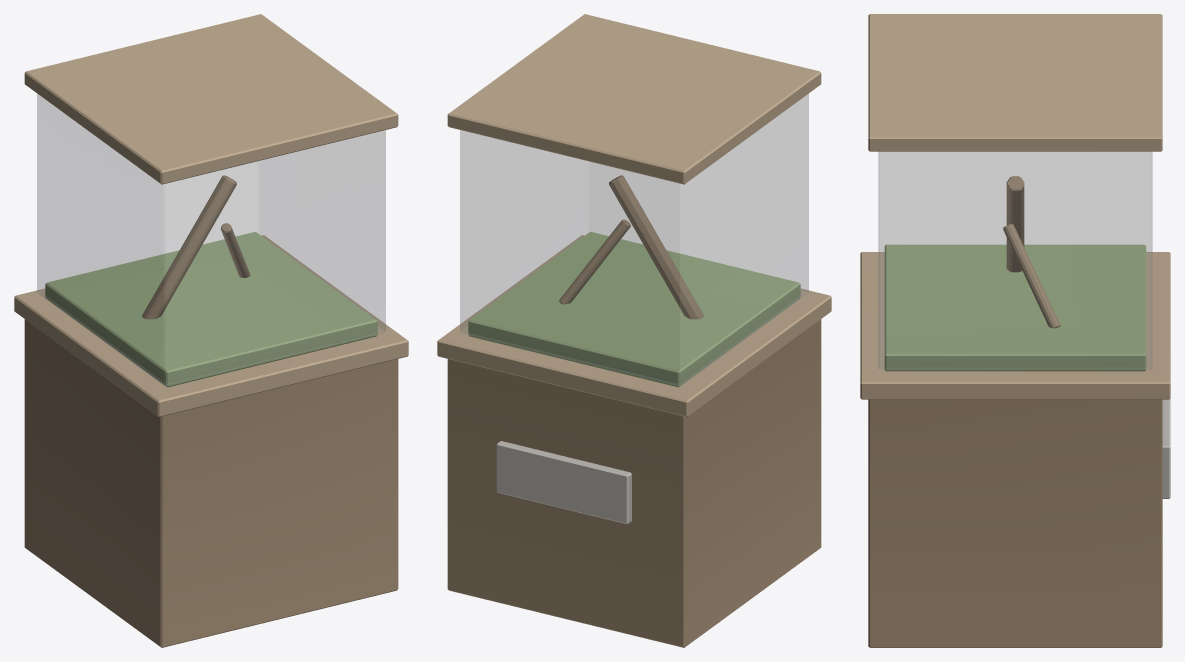
Rendered from museum_insect_case.glb.
3 views of the same model, side by side, from view 1: azimuth 30°, elevation 25°; view 2: azimuth 150°, elevation 25°; view 3: azimuth 270°, elevation 25° (orthographic). The views are drawn at different scales.
Bounding box in the file's own units: 0.95 × 1.73 × 0.95.
